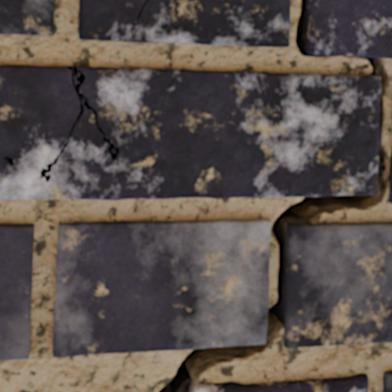brick: (0, 65, 379, 199), (53, 219, 270, 356), (284, 223, 391, 347), (79, 0, 289, 46), (308, 0, 391, 57), (0, 224, 33, 359), (0, 0, 53, 34), (384, 372, 391, 391), (389, 176, 391, 201)
broken_brick: (197, 373, 368, 391)
crack: (0, 0, 391, 391), (39, 65, 120, 183), (48, 0, 55, 7), (23, 30, 34, 34)
